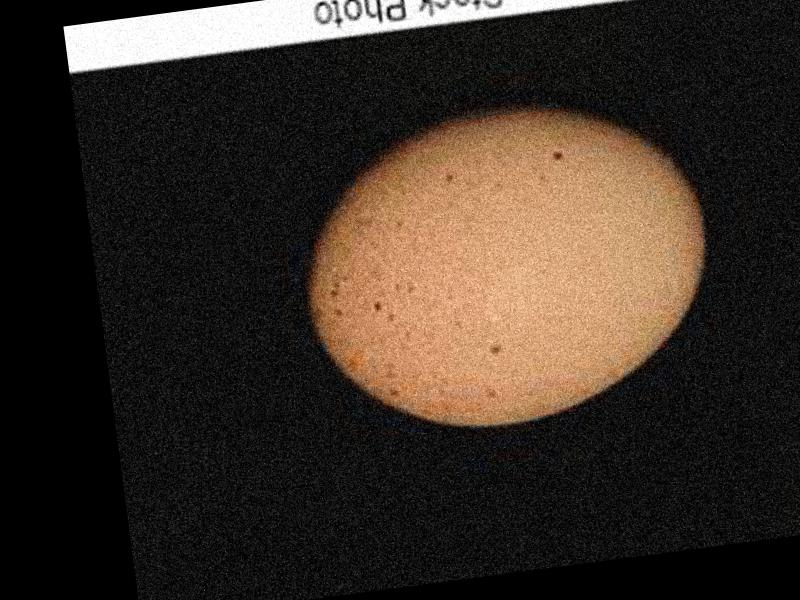Eggs: (290, 81, 726, 446)
